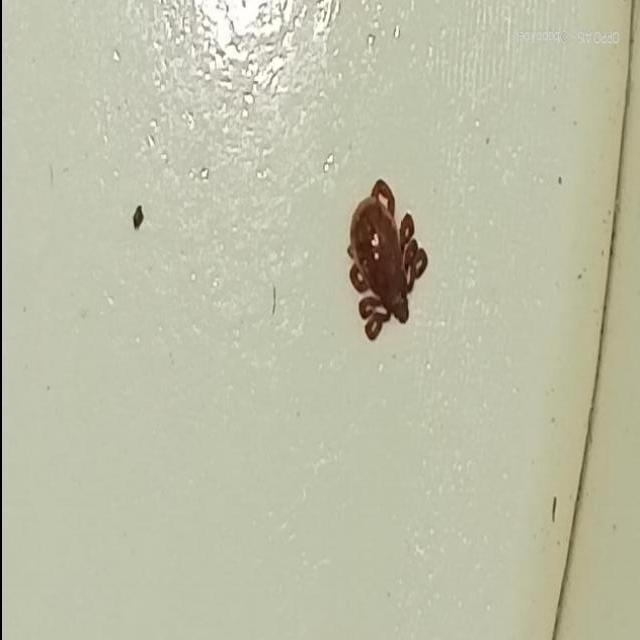Rhipicephalus Sanguineus-M: (343, 178, 425, 340)
